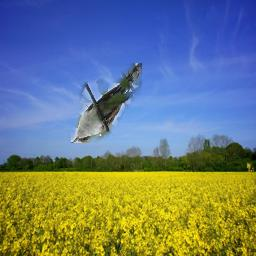Cuckoo: (72, 63, 143, 143)
